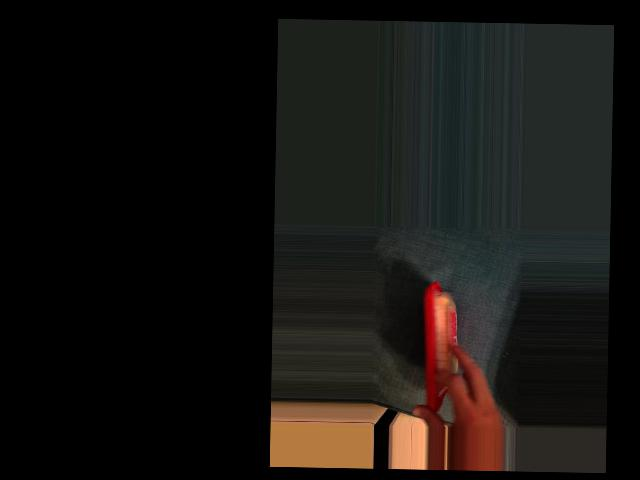cheese: (420, 280, 463, 415)
